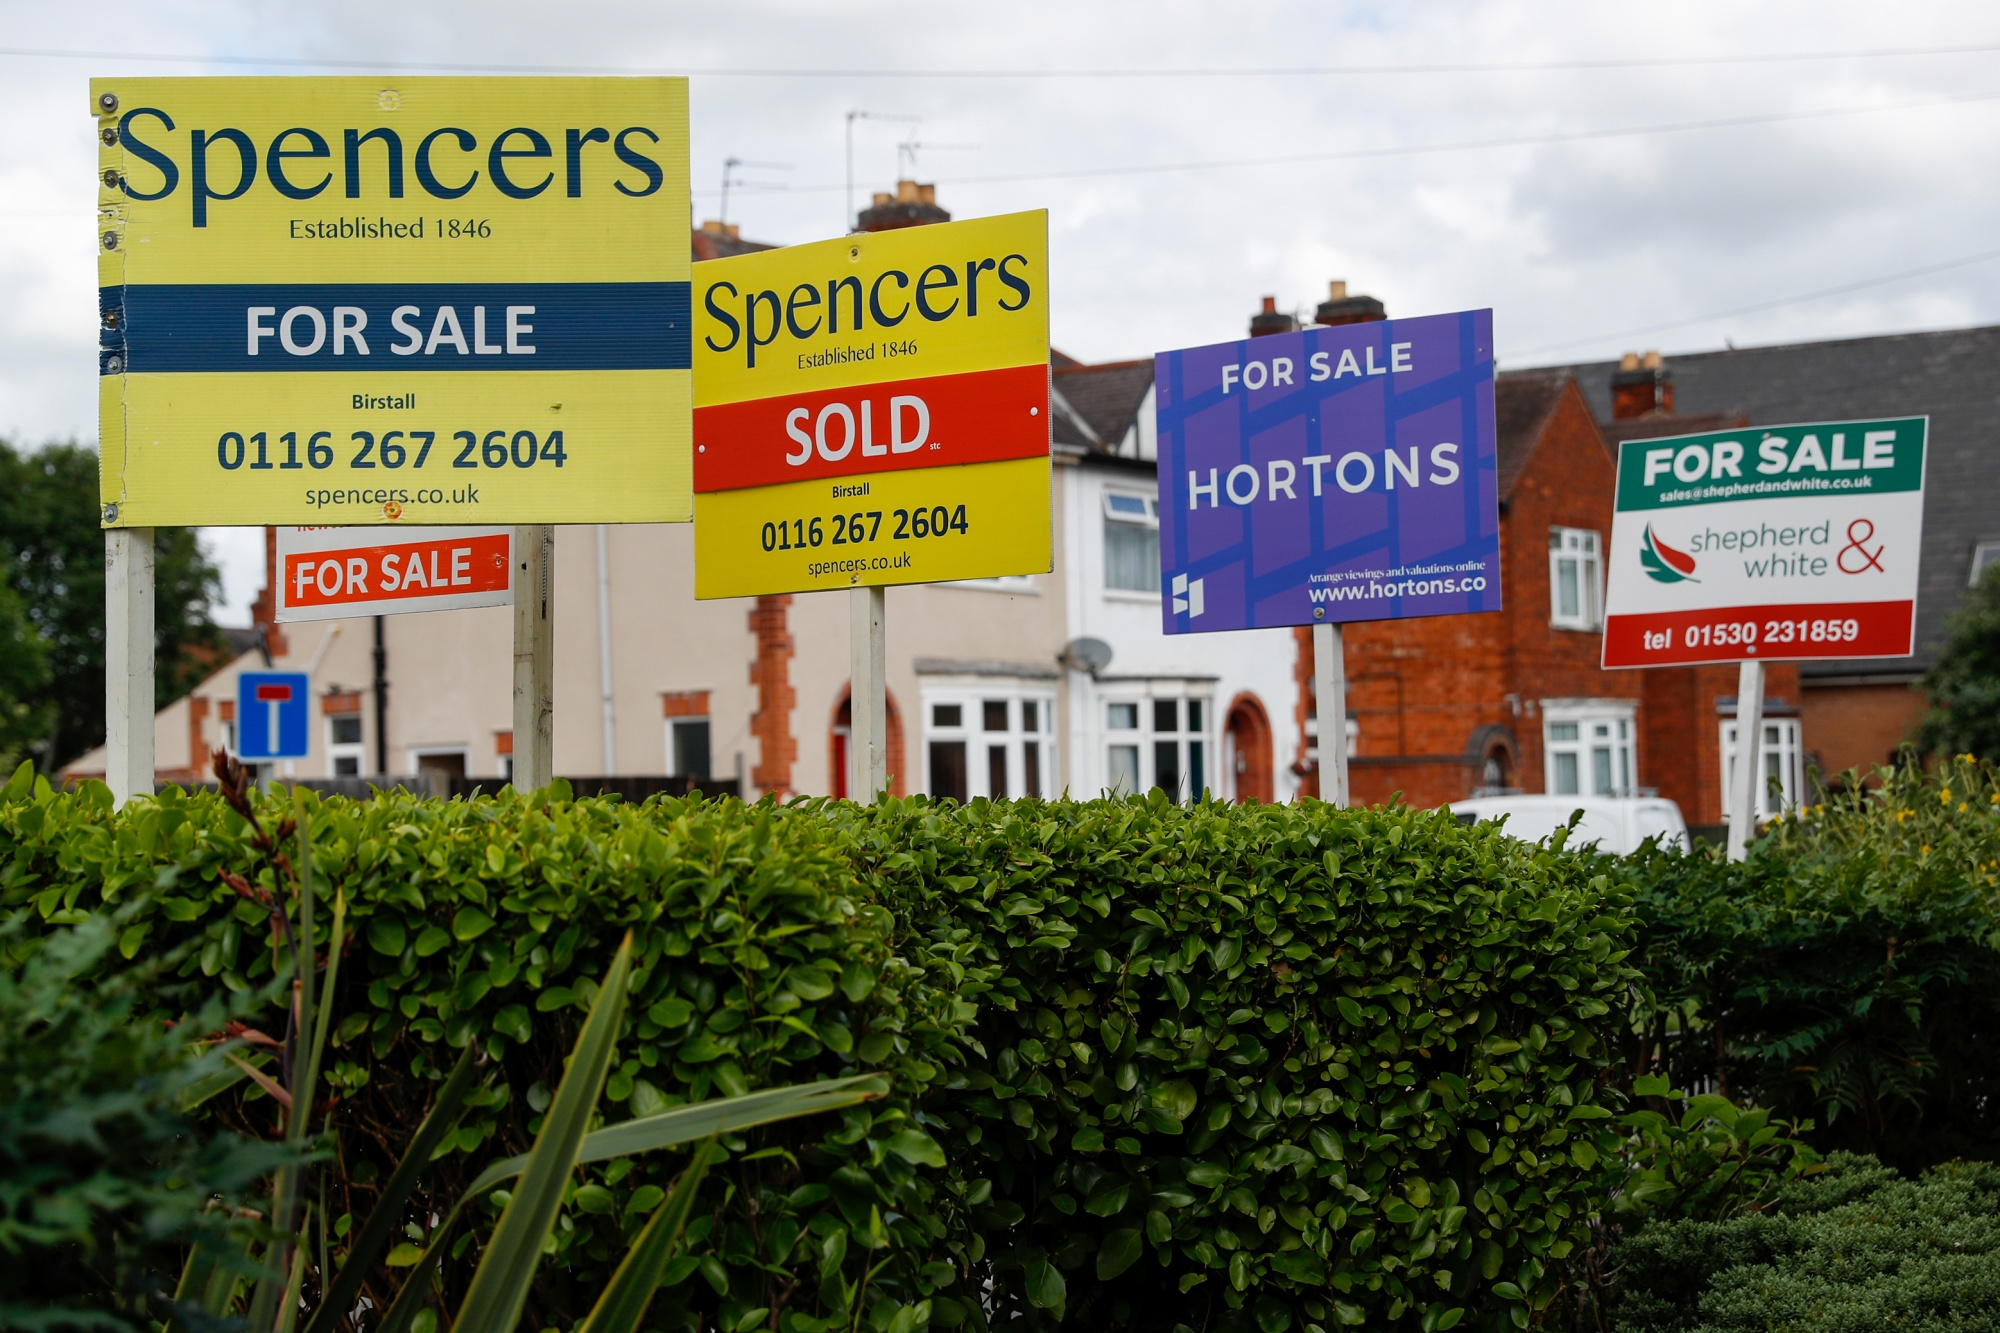property sign: (15, 49, 694, 545), (683, 201, 1071, 598), (1124, 298, 1545, 649), (1590, 376, 1939, 698)
